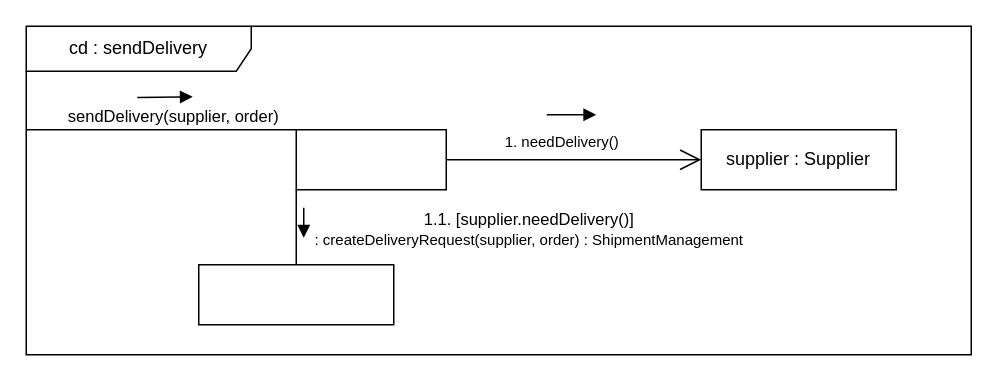
Some shapes in this 998 by 381 pixel diagram are drawn without their labels. The centre of each missing label's shape, as x and y in pixels:
OrderManagment: point 370,159
ShipmentManagement: point 295,294
